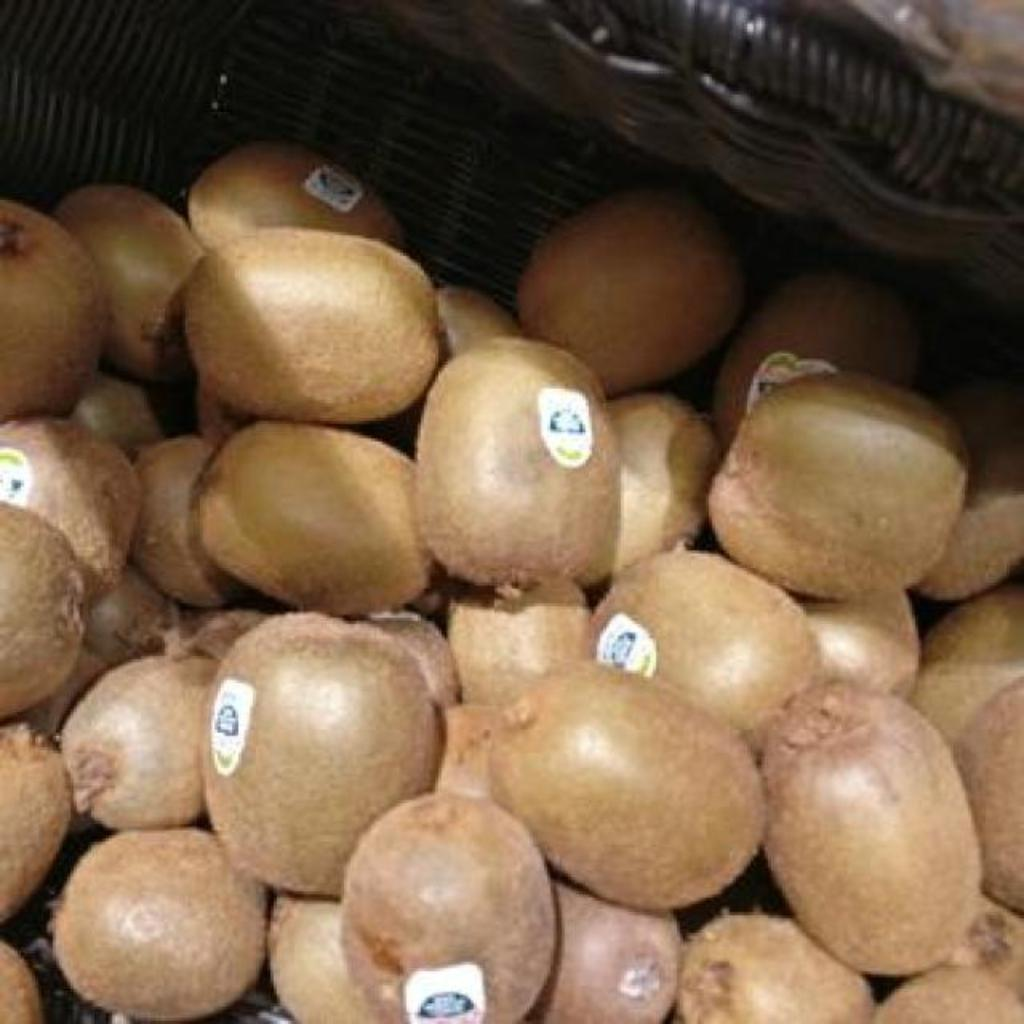kiwi: (494, 662, 764, 911), (206, 614, 440, 895), (766, 684, 980, 975), (710, 374, 964, 597), (418, 336, 618, 585), (344, 792, 556, 1024), (186, 228, 436, 423), (518, 190, 742, 393), (200, 422, 428, 613), (592, 552, 818, 735), (54, 830, 264, 1019), (714, 272, 920, 445), (54, 188, 204, 381), (18, 566, 176, 735), (62, 660, 217, 829), (0, 420, 142, 595), (0, 200, 104, 421), (190, 142, 400, 247), (683, 914, 870, 1024), (540, 882, 678, 1023), (608, 394, 716, 571), (910, 586, 1024, 743), (134, 436, 238, 607), (1, 504, 84, 717), (450, 584, 590, 705), (954, 678, 1024, 911), (268, 894, 378, 1024), (0, 724, 72, 919), (802, 592, 920, 695), (916, 492, 1024, 600), (872, 966, 1024, 1023), (371, 612, 458, 707), (70, 372, 162, 459), (948, 896, 1024, 999), (436, 706, 500, 797), (438, 286, 518, 355), (184, 612, 265, 659), (0, 942, 44, 1023)
